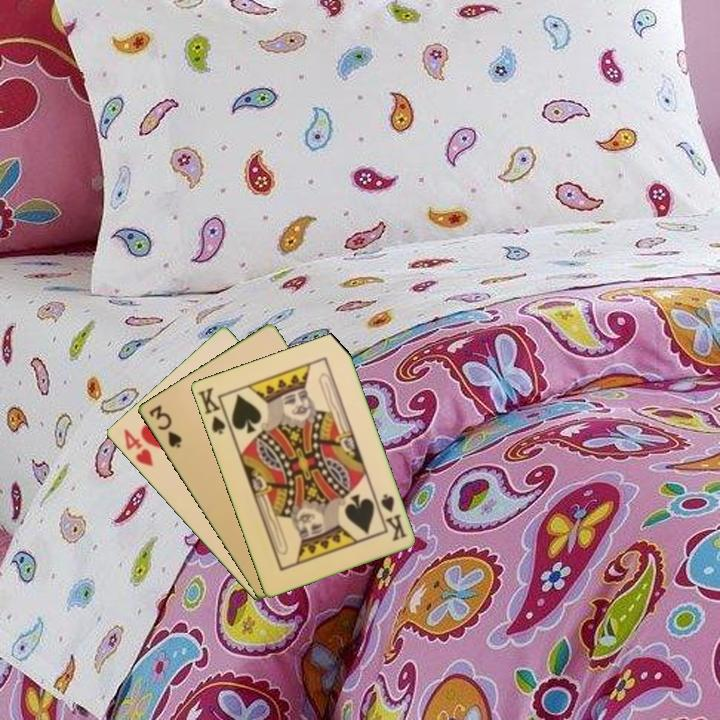3s: (145, 401, 184, 451)
4h: (120, 425, 156, 470)
Ks: (194, 383, 233, 437), (377, 490, 409, 544)
